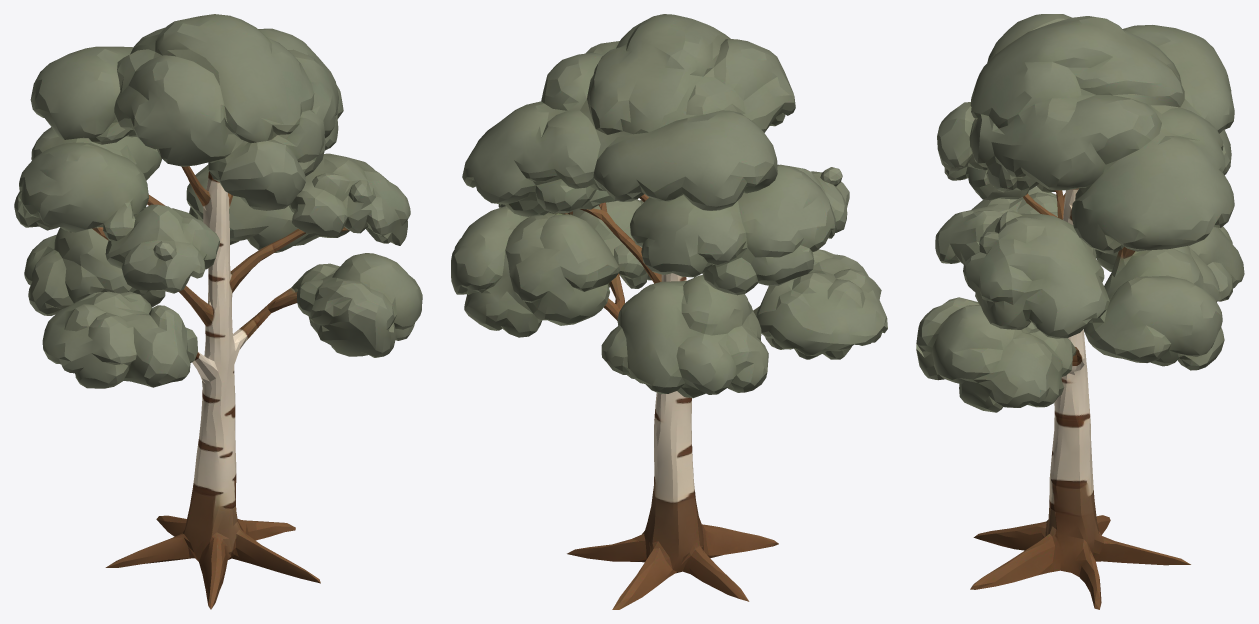
The picture shows the model from 3 angles, left to right: view 1: azimuth 30°, elevation 25°; view 2: azimuth 150°, elevation 25°; view 3: azimuth 270°, elevation 25°; orthographic projection.
Parts seen in each view (by area): view 1: Mesh; view 2: Mesh; view 3: Mesh.
Boxes of the visible parts, x1,y1,x2,y2 form: Mesh: [14, 14, 422, 609]; Mesh: [451, 14, 887, 609]; Mesh: [916, 14, 1244, 609].
Size of the model in its own units: 1.33 by 1.89 by 1.04.
Materials: 1 (1 with a texture image).
